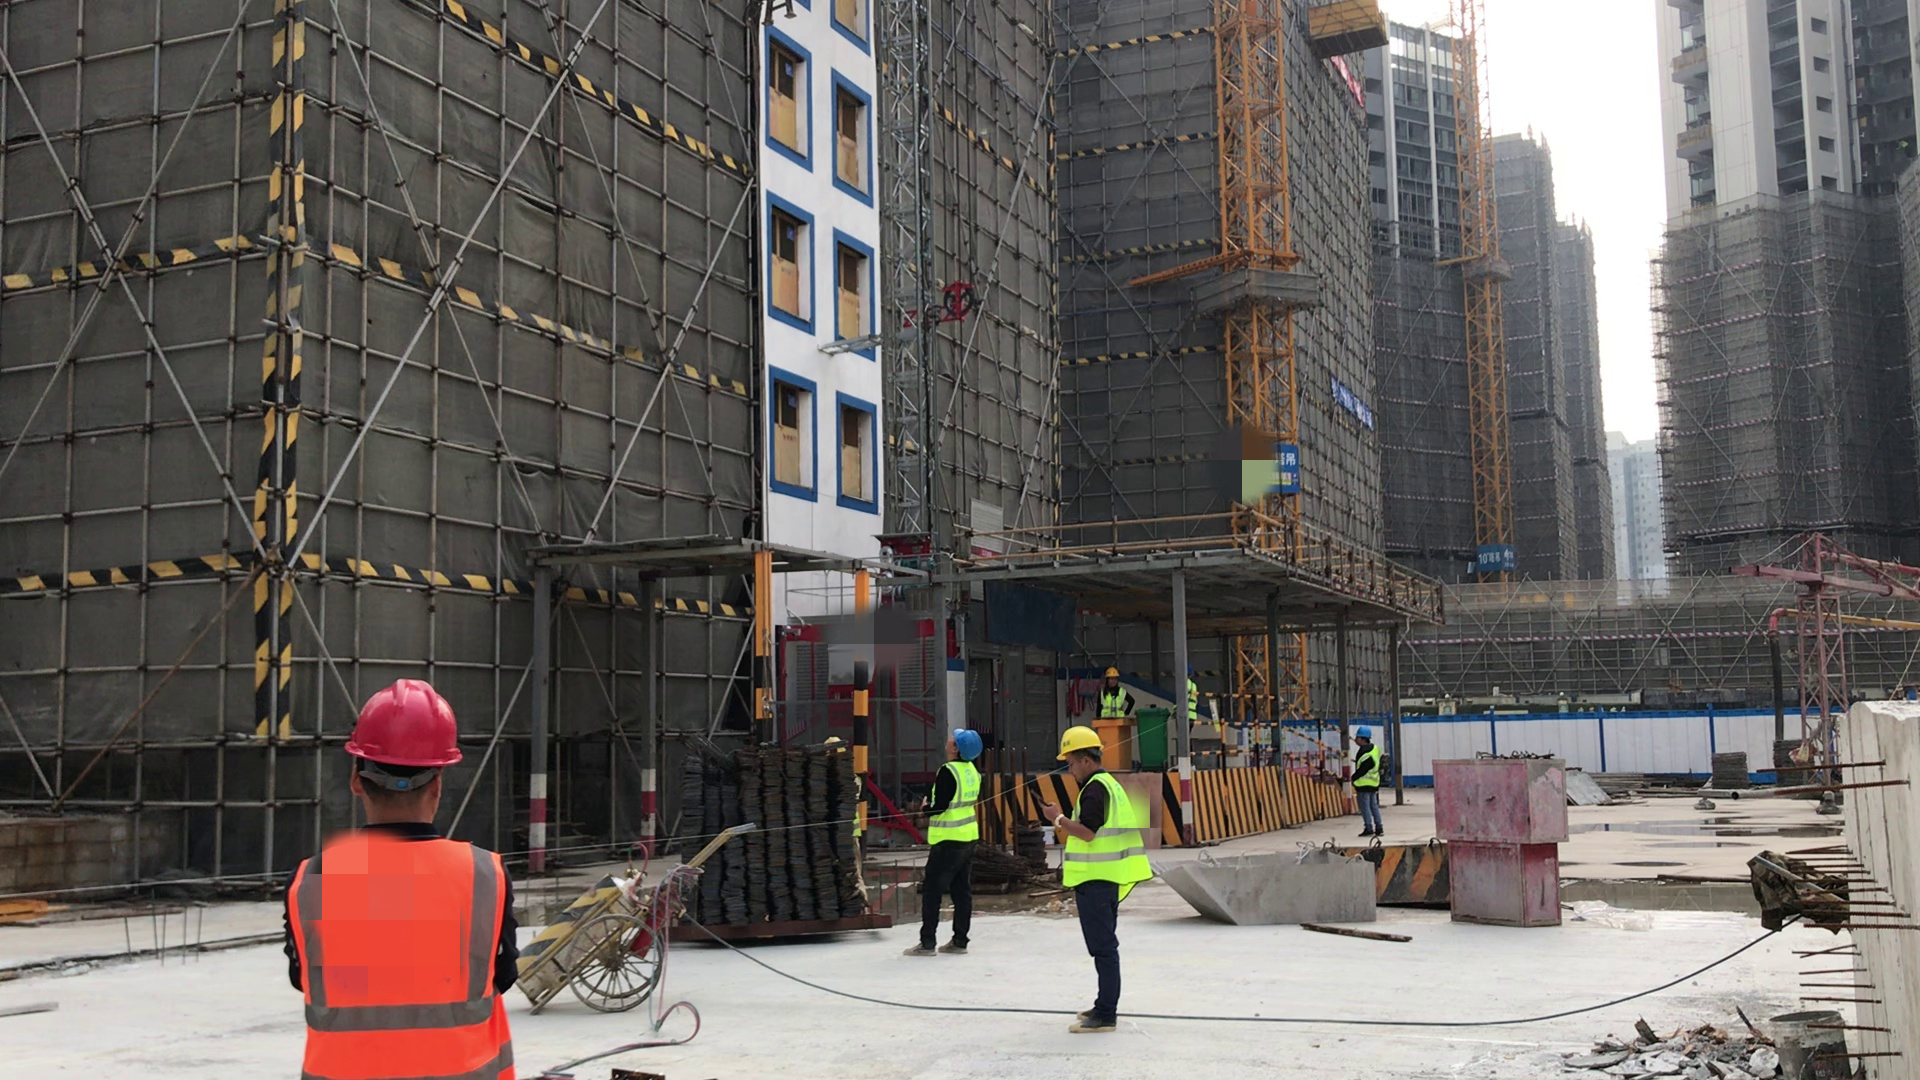helmet: (1053, 726, 1106, 764), (952, 726, 982, 757), (1103, 661, 1123, 682), (1357, 722, 1375, 739)
person: (273, 664, 534, 1080), (1046, 713, 1160, 1044), (908, 721, 982, 957), (1346, 724, 1390, 839), (1092, 661, 1136, 721), (1182, 672, 1200, 748)
vest: (1063, 773, 1154, 901), (920, 759, 984, 852), (1350, 744, 1384, 791), (1101, 686, 1127, 718), (1186, 679, 1203, 723)
